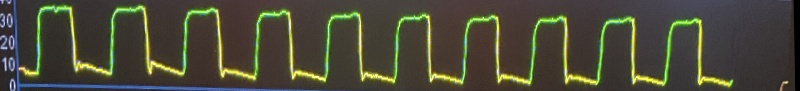normal_pressure: (17, 5, 751, 90)
